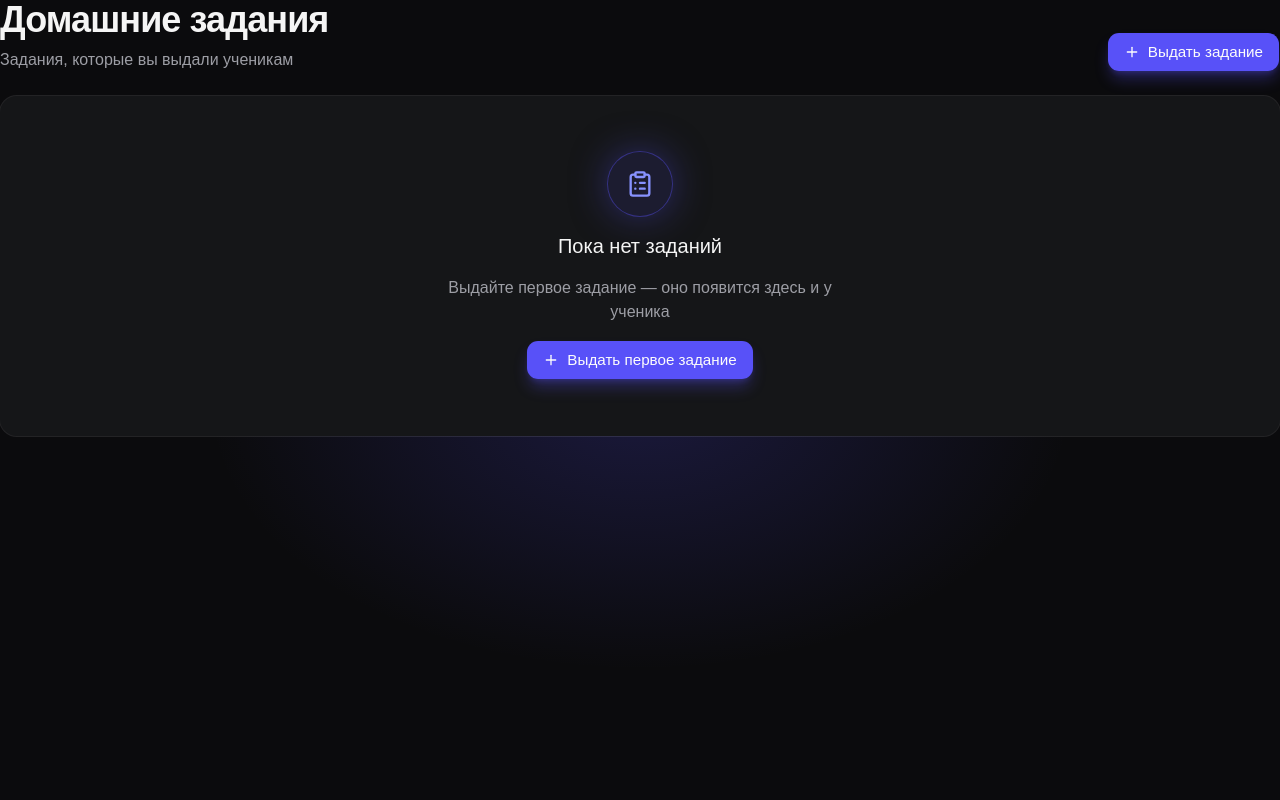
Валидация формы задания › сообщение об ошибке исчезает, когда поле исправляют
Step 1. Click the button "Выдать задание" → (1193, 52), box [1107, 32, 1279, 72]
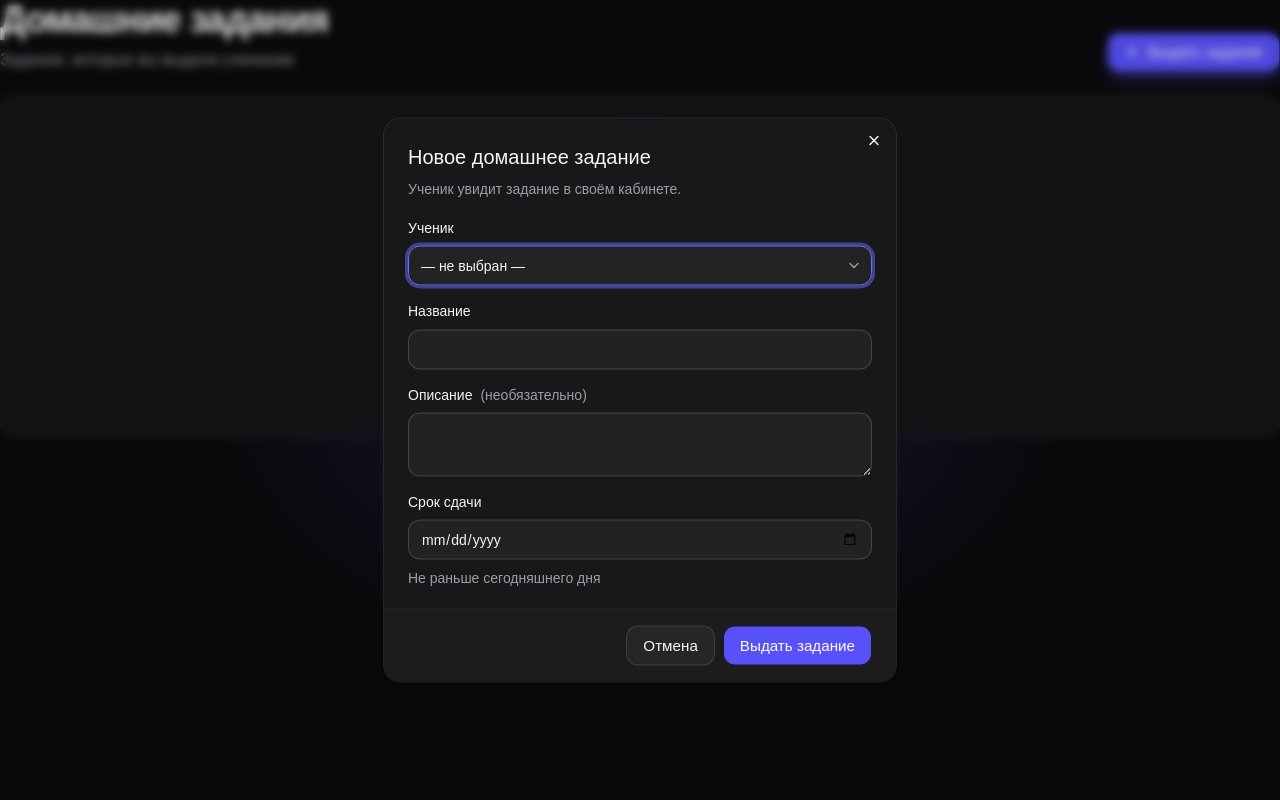
Step 2. Click the button "Выдать задание" → (797, 646), box [723, 626, 872, 666]
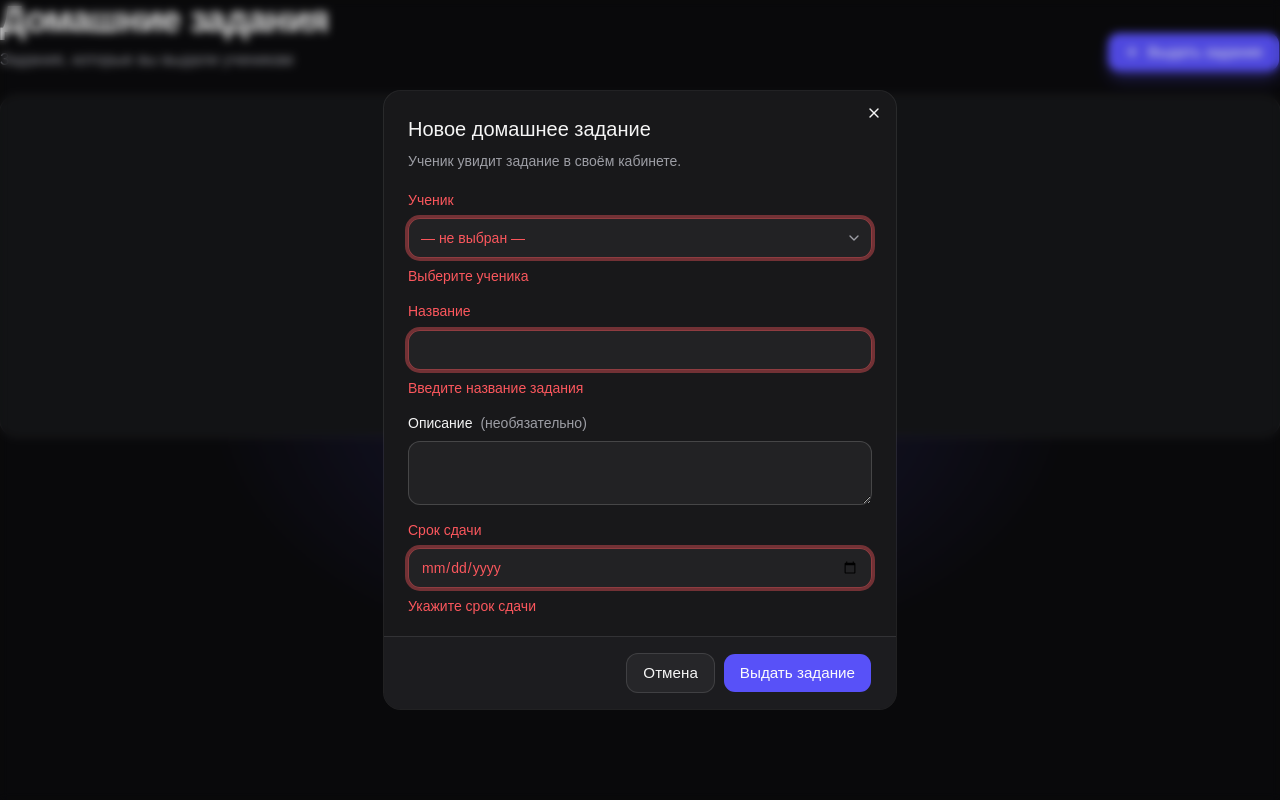
Now the text "Введите название задания" is shown, box [408, 380, 583, 396]
Step 3. Type "Строки" into the field labelled "Название" → (640, 350), box [408, 330, 872, 370]
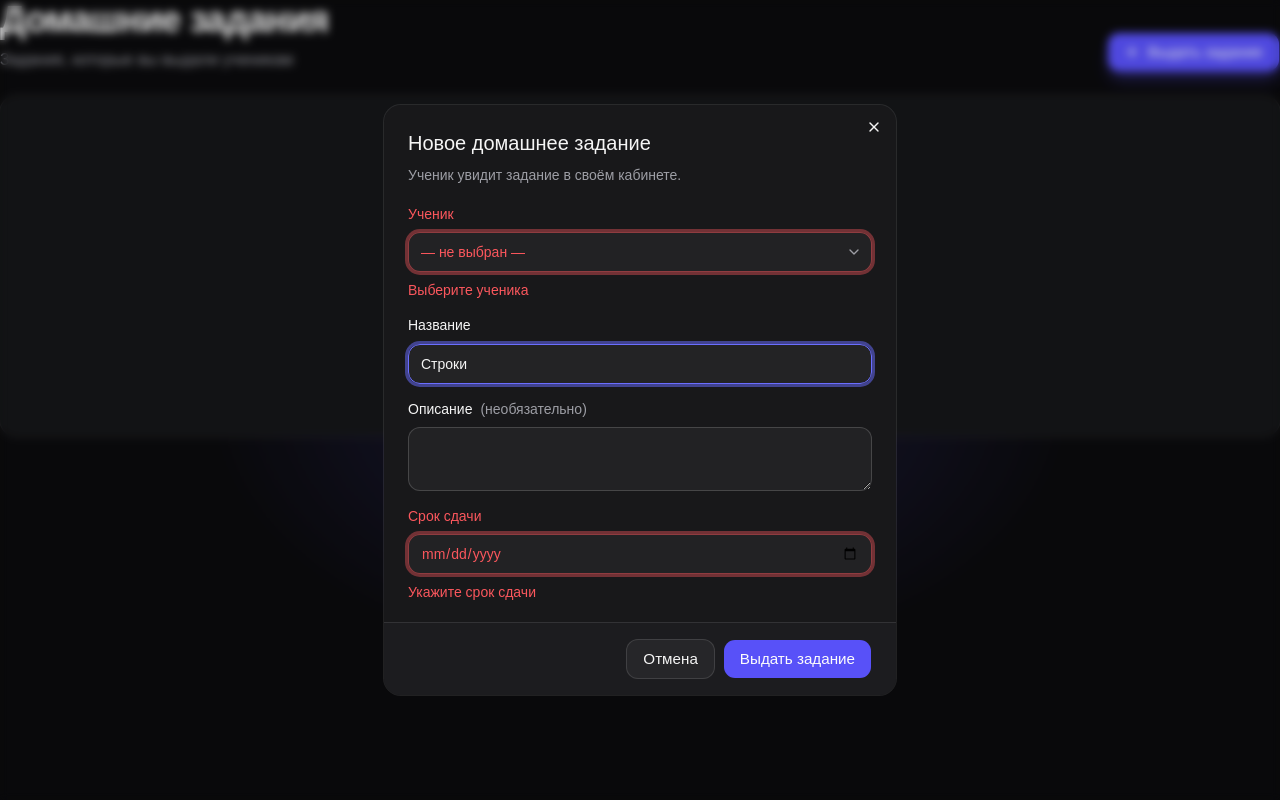
Now the text "Введите название задания" is gone
